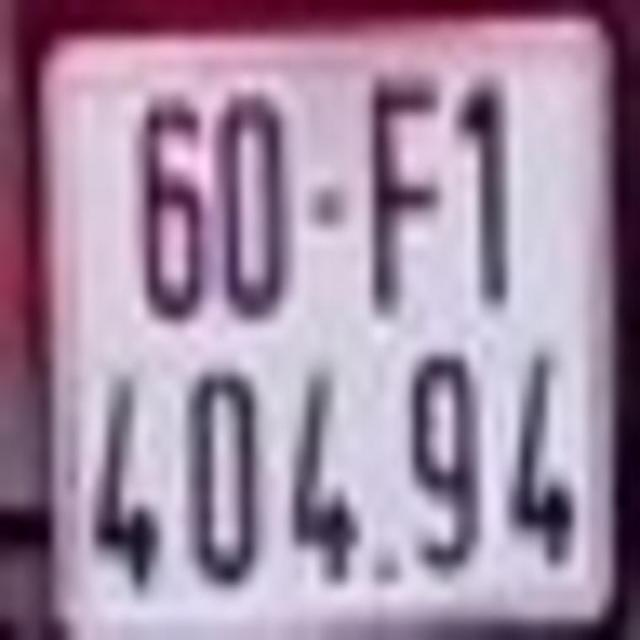0: (215, 89, 289, 314), (196, 364, 259, 580)
1: (458, 85, 531, 318)
4: (290, 359, 362, 588), (91, 368, 164, 589), (513, 343, 578, 564)
6: (137, 90, 202, 324)
9: (397, 338, 488, 573)
F: (364, 80, 446, 314)
